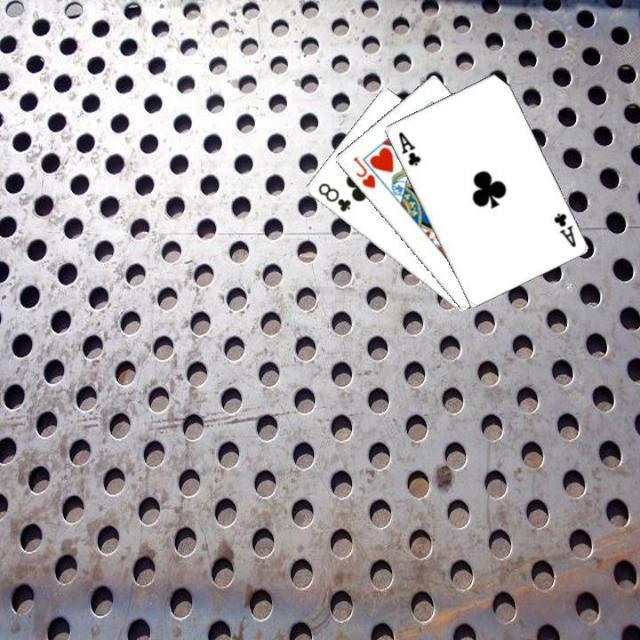8C: (314, 179, 353, 214)
AC: (549, 209, 578, 249), (394, 127, 422, 167)
JH: (348, 152, 377, 190)
